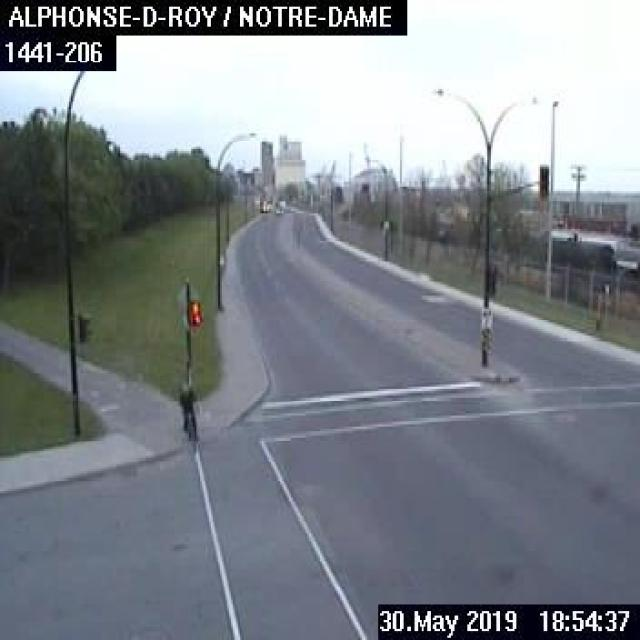cyclist: (178, 380, 199, 451)
